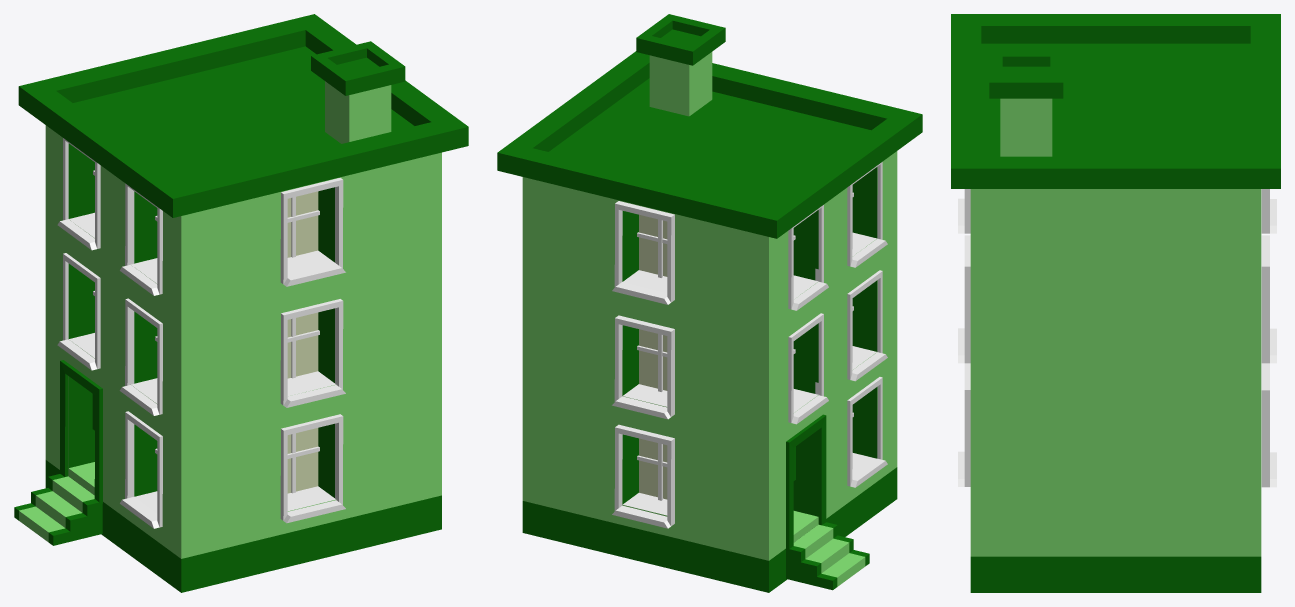
The model's file is Haus03.fbx.
The picture shows the model from 3 angles, left to right: view 1: azimuth 30°, elevation 25°; view 2: azimuth 150°, elevation 25°; view 3: azimuth 270°, elevation 25°; orthographic projection. The views are drawn at different scales.
Visible parts, largest first — view 1: Cube.004; view 2: Cube.004; view 3: Cube.004.
Boxes of the visible parts, left/top/right/bottom form: Cube.004: left=14, top=14, right=468, bottom=592; Cube.004: left=497, top=14, right=922, bottom=592; Cube.004: left=951, top=14, right=1280, bottom=592.
Size of the model in its own units: 423 by 571 by 344.
